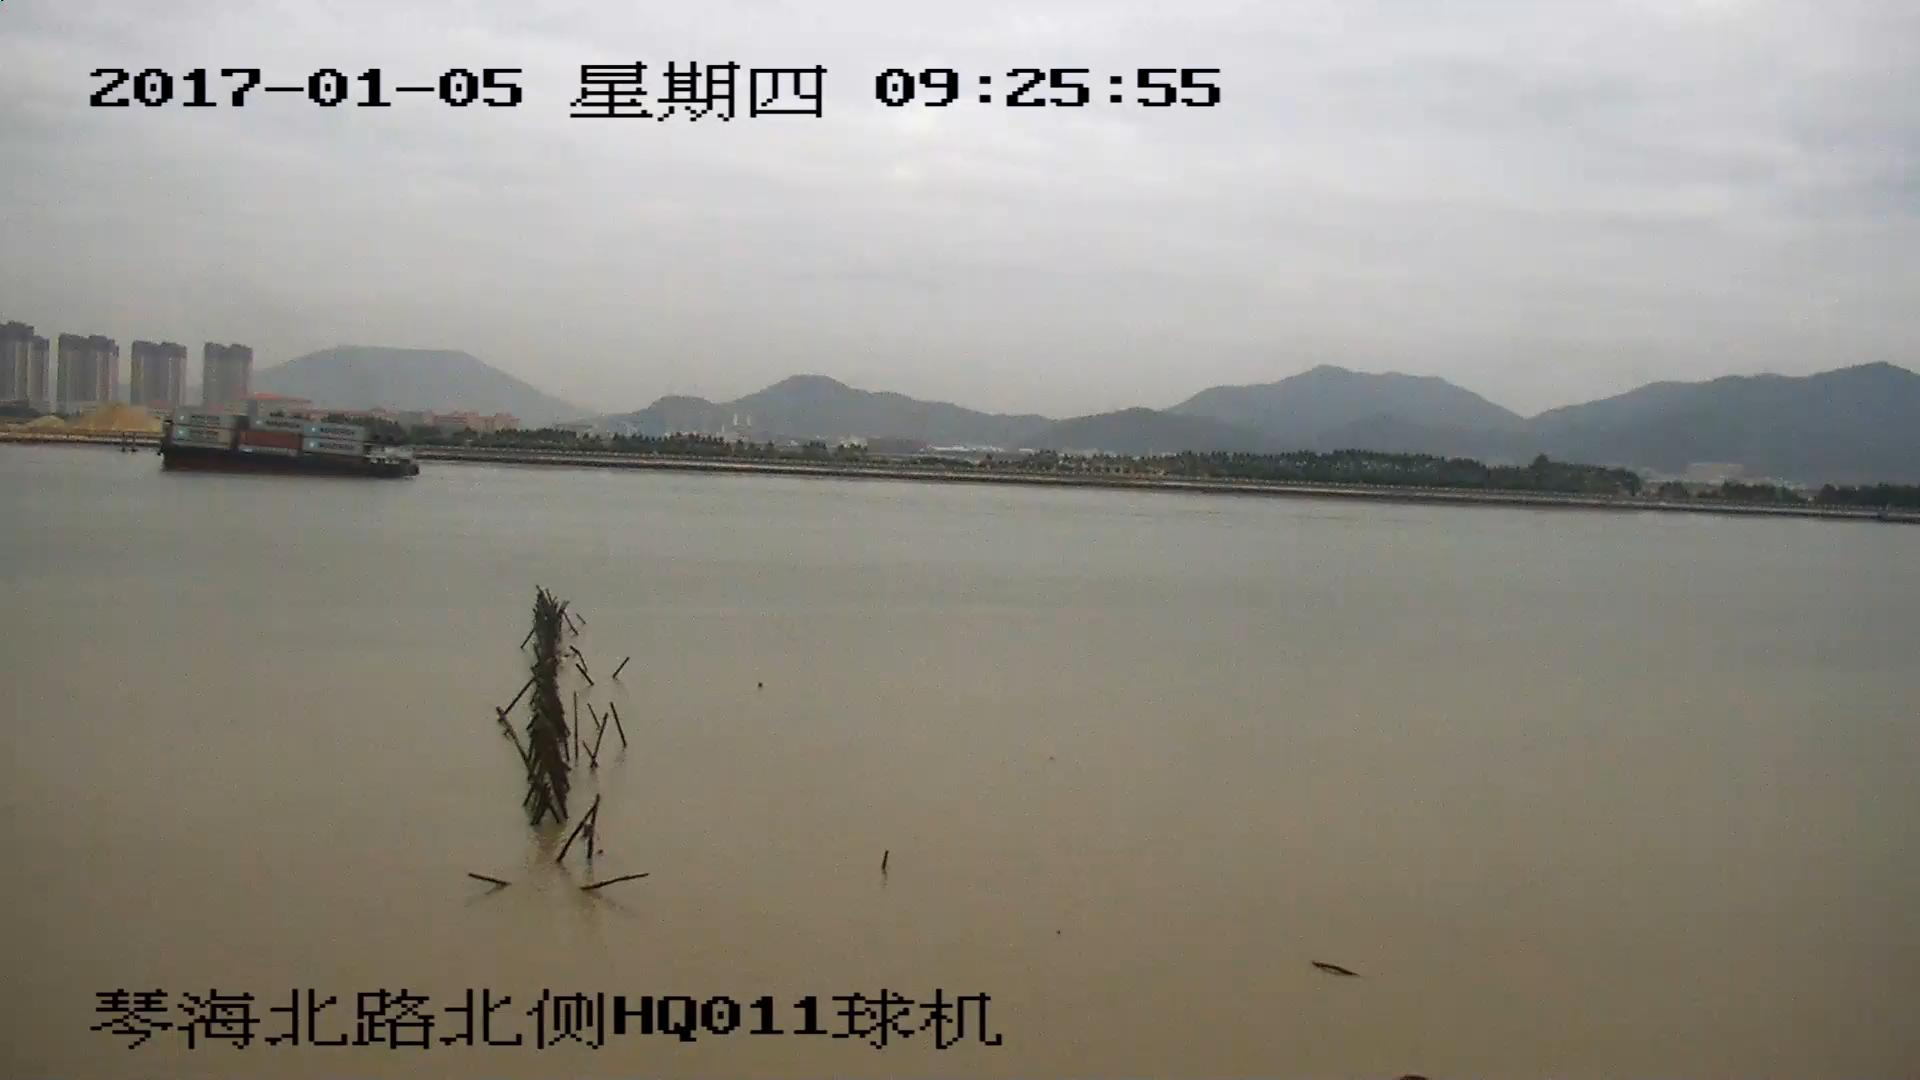container ship: (158, 416, 416, 477)
